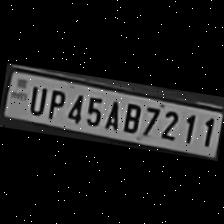1: (194, 114, 218, 150), (177, 110, 200, 146)
2: (154, 106, 181, 144)
4: (62, 88, 86, 124)
5: (80, 92, 106, 128)
7: (138, 104, 160, 138)
A: (100, 96, 123, 132)
B: (118, 100, 142, 136)
P: (42, 86, 66, 120)
U: (22, 82, 48, 116)
